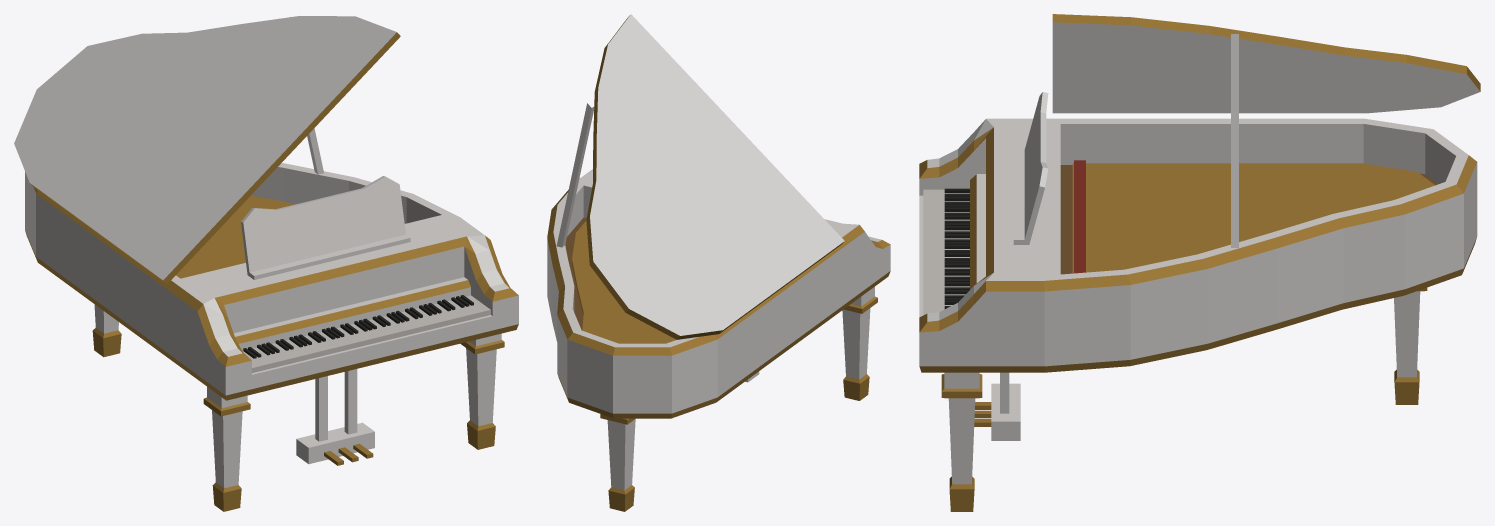
Rendered from lounge-grand-piano-e98c92.glb.
3 views of the same model, side by side, from view 1: azimuth 30°, elevation 25°; view 2: azimuth 150°, elevation 25°; view 3: azimuth 270°, elevation 25° (orthographic). The views are drawn at different scales.
Visible parts, largest first — view 1: lounge-grand-piano, lid, music-desk; view 2: lid, lounge-grand-piano, prop-stick; view 3: lounge-grand-piano, lid, music-desk, prop-stick.
Boxes of the visible parts, x1,y1,x2,y2 form: lounge-grand-piano: (25,163,518,511); lid: (14,16,400,284); music-desk: (241,176,410,279); lid: (586,14,844,339); lounge-grand-piano: (547,169,890,511); prop-stick: (556,103,594,247); lounge-grand-piano: (919,118,1477,511); lid: (1052,14,1480,113); music-desk: (1013,92,1048,244); prop-stick: (1231,34,1238,247).
Bounding box in the file's own units: 1.53 × 1.93 × 2.11.
